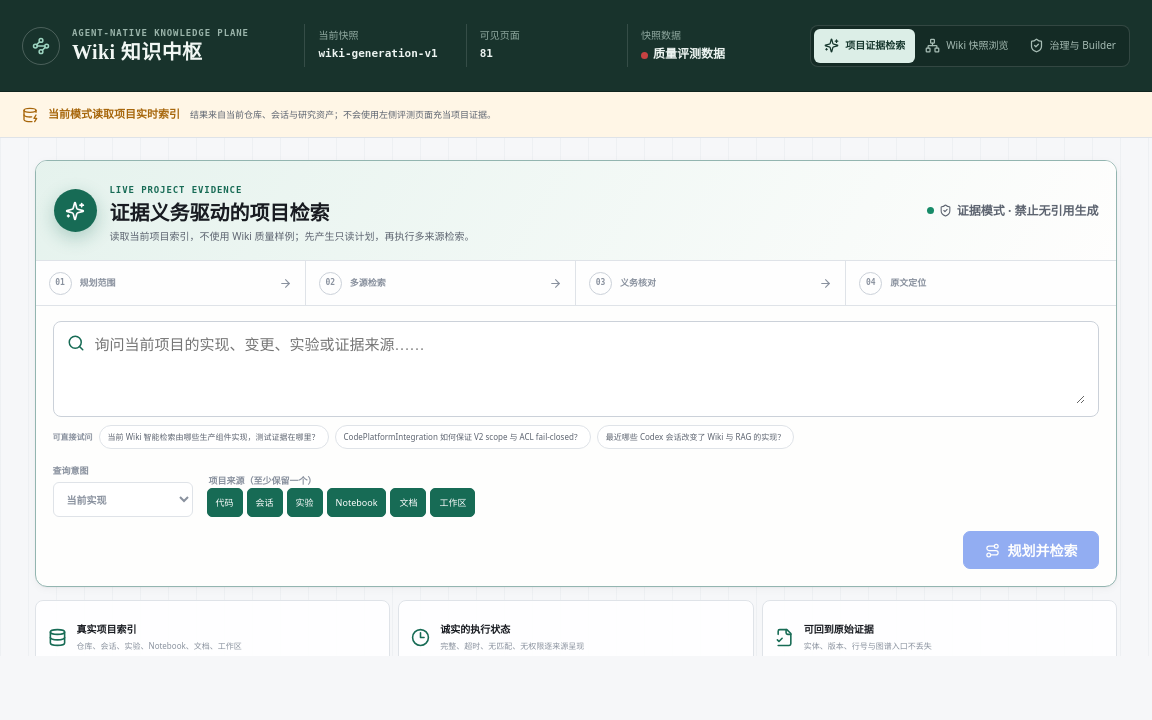
Test case: WikiWorkbench › shows Error Book and keeps unreviewed Builder output outside publication
Expected: the heading "Wiki 知识中枢" is shown, [72,41,202,63]
Click the button "治理与 Builder": (1072,46) [1019,28,1126,62]
(page scrolled)
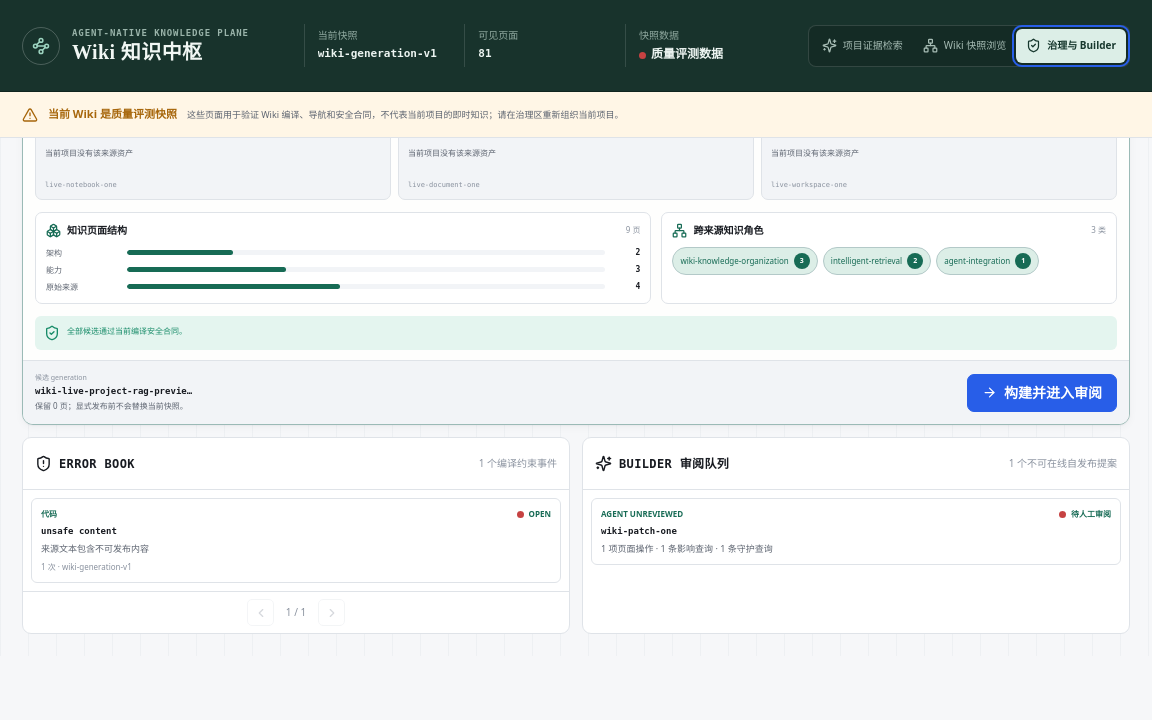
Result: the text "来源文本包含不可发布内容" is shown at [41,542,149,555]
Click the button "wiki-patch-one": (642,514) [591,498,1121,565]
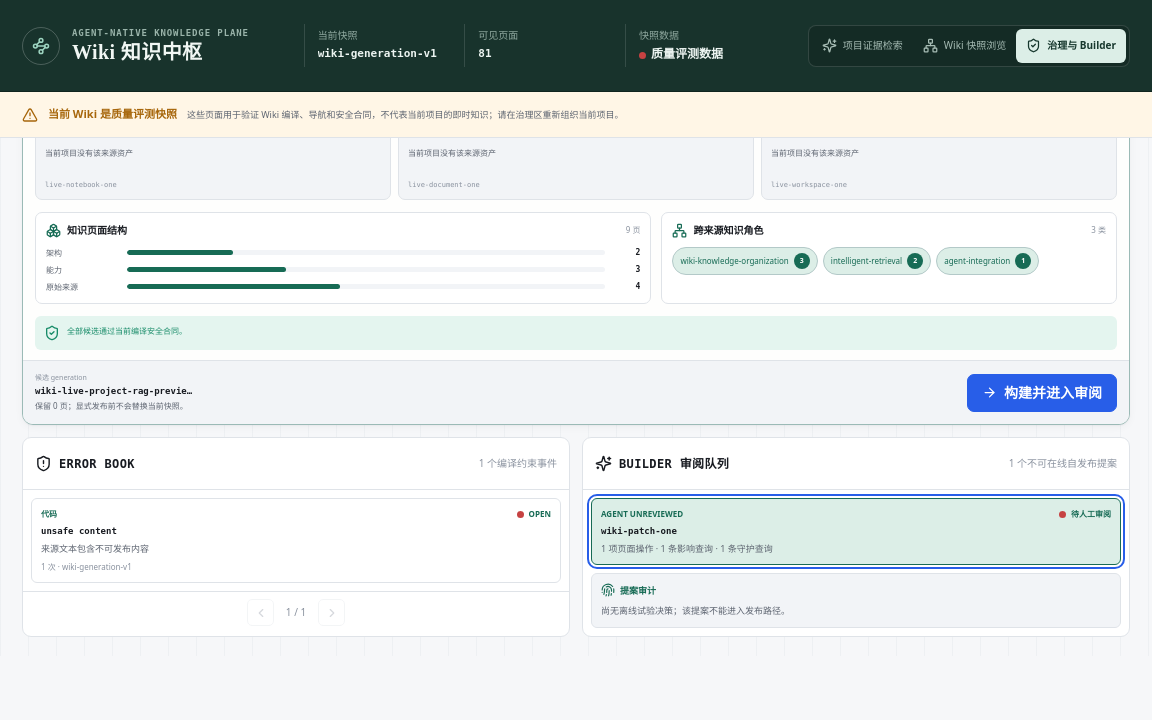
Result: the text "待人工审阅" is shown at [1059,508,1111,520]
Result: the text "尚无离线试验决策；该提案不能进入发布路径。" is shown at [601,604,790,617]
